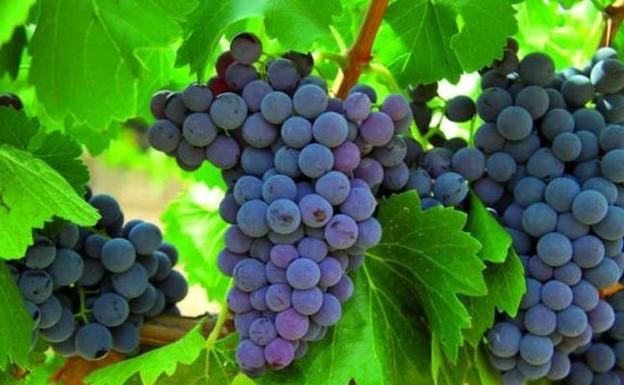Black grapes: (160, 28, 397, 384), (451, 37, 624, 383), (10, 175, 193, 364)
